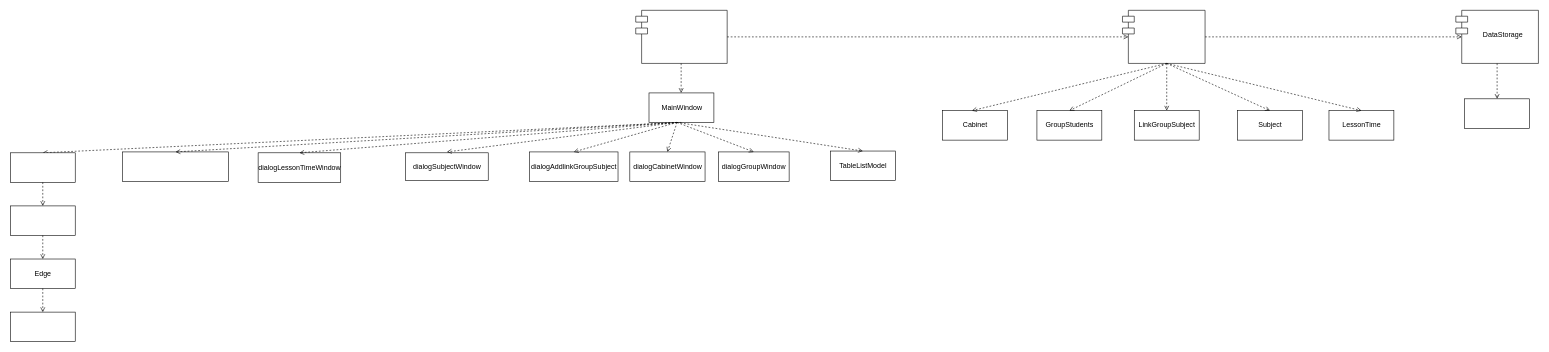
The diagram is 1549 pixels wide and 352 high, and some of its shapes have lost their labels. Here are the shapes that lost their labels. From the top down, the box of each, then its label:
(635, 10, 727, 63): GUI
(1122, 10, 1205, 63): Business Logic
(1464, 98, 1530, 128): RepositoryTemplate
(10, 152, 75, 182): VisualizationWidget
(122, 151, 229, 181): dialogLinkGroupSubjectWibdow
(10, 205, 75, 235): GraphWidget
(10, 312, 75, 342): Node
